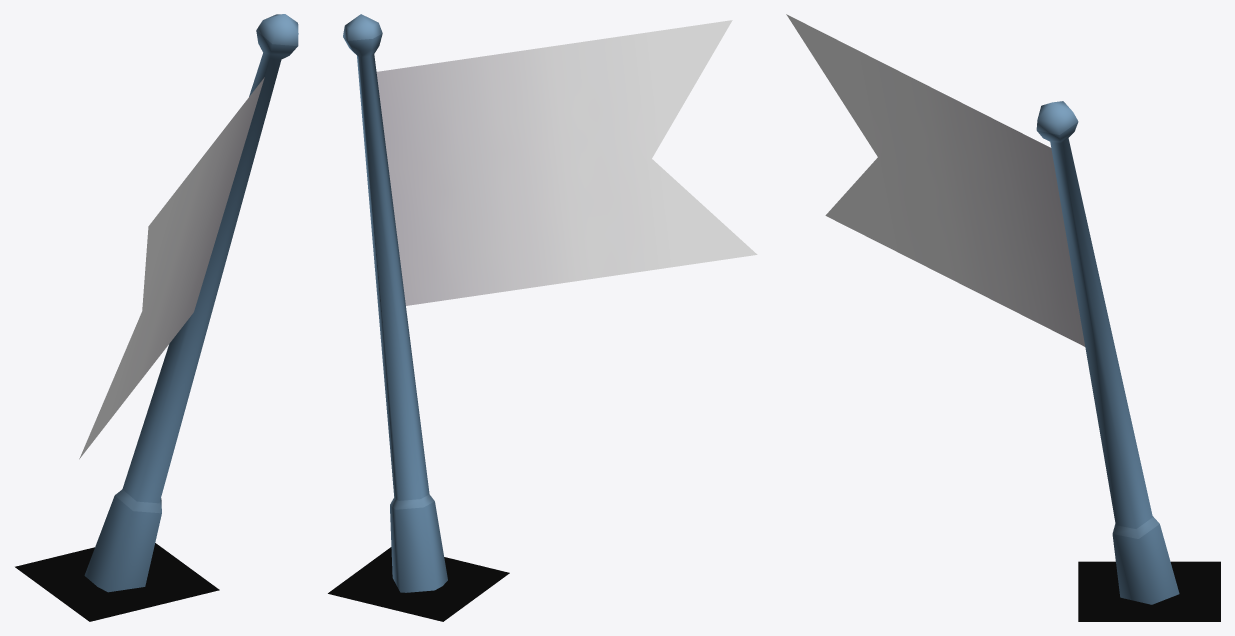
The model's file is FlagWhite.fbx.
The picture shows the model from 3 angles, left to right: view 1: azimuth 30°, elevation 25°; view 2: azimuth 150°, elevation 25°; view 3: azimuth 270°, elevation 25°; orthographic projection. The views are drawn at different scales.
Visible parts, largest first — view 1: FlagWhite, Killtag01, Shadow; view 2: Killtag01, FlagWhite, Shadow; view 3: Killtag01, FlagWhite, Shadow.
Part boxes in pixels (x1,y1,x2,y2): FlagWhite: [84, 14, 298, 592]; Killtag01: [79, 77, 264, 459]; Shadow: [15, 543, 219, 621]; Killtag01: [376, 20, 757, 305]; FlagWhite: [343, 14, 447, 592]; Shadow: [328, 547, 509, 621]; Killtag01: [786, 14, 1085, 346]; FlagWhite: [1036, 101, 1179, 604]; Shadow: [1078, 561, 1220, 621].
Bounding box in the file's own units: 2.92 × 4.77 × 3.4.
2 materials, 2 textured.
